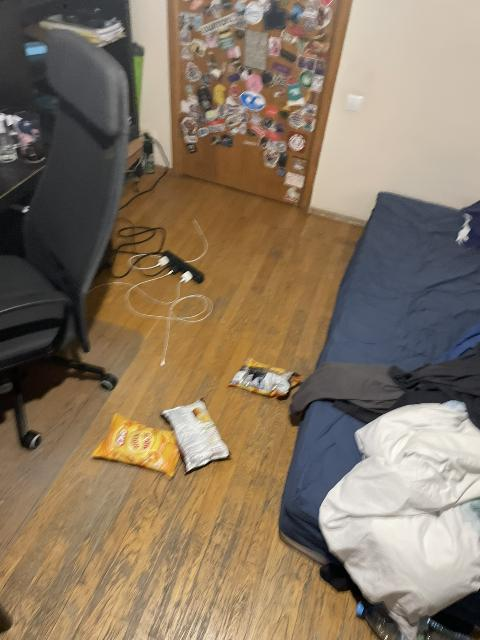Chio Hula Hoops Cheese 70g: (91, 412, 183, 478), (229, 358, 300, 397)
Lays Beef Grilled Ribs 125g: (161, 398, 230, 474)
